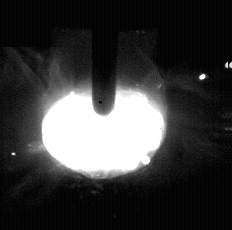arame: (93, 0, 117, 115)
poca: (41, 0, 167, 230)
